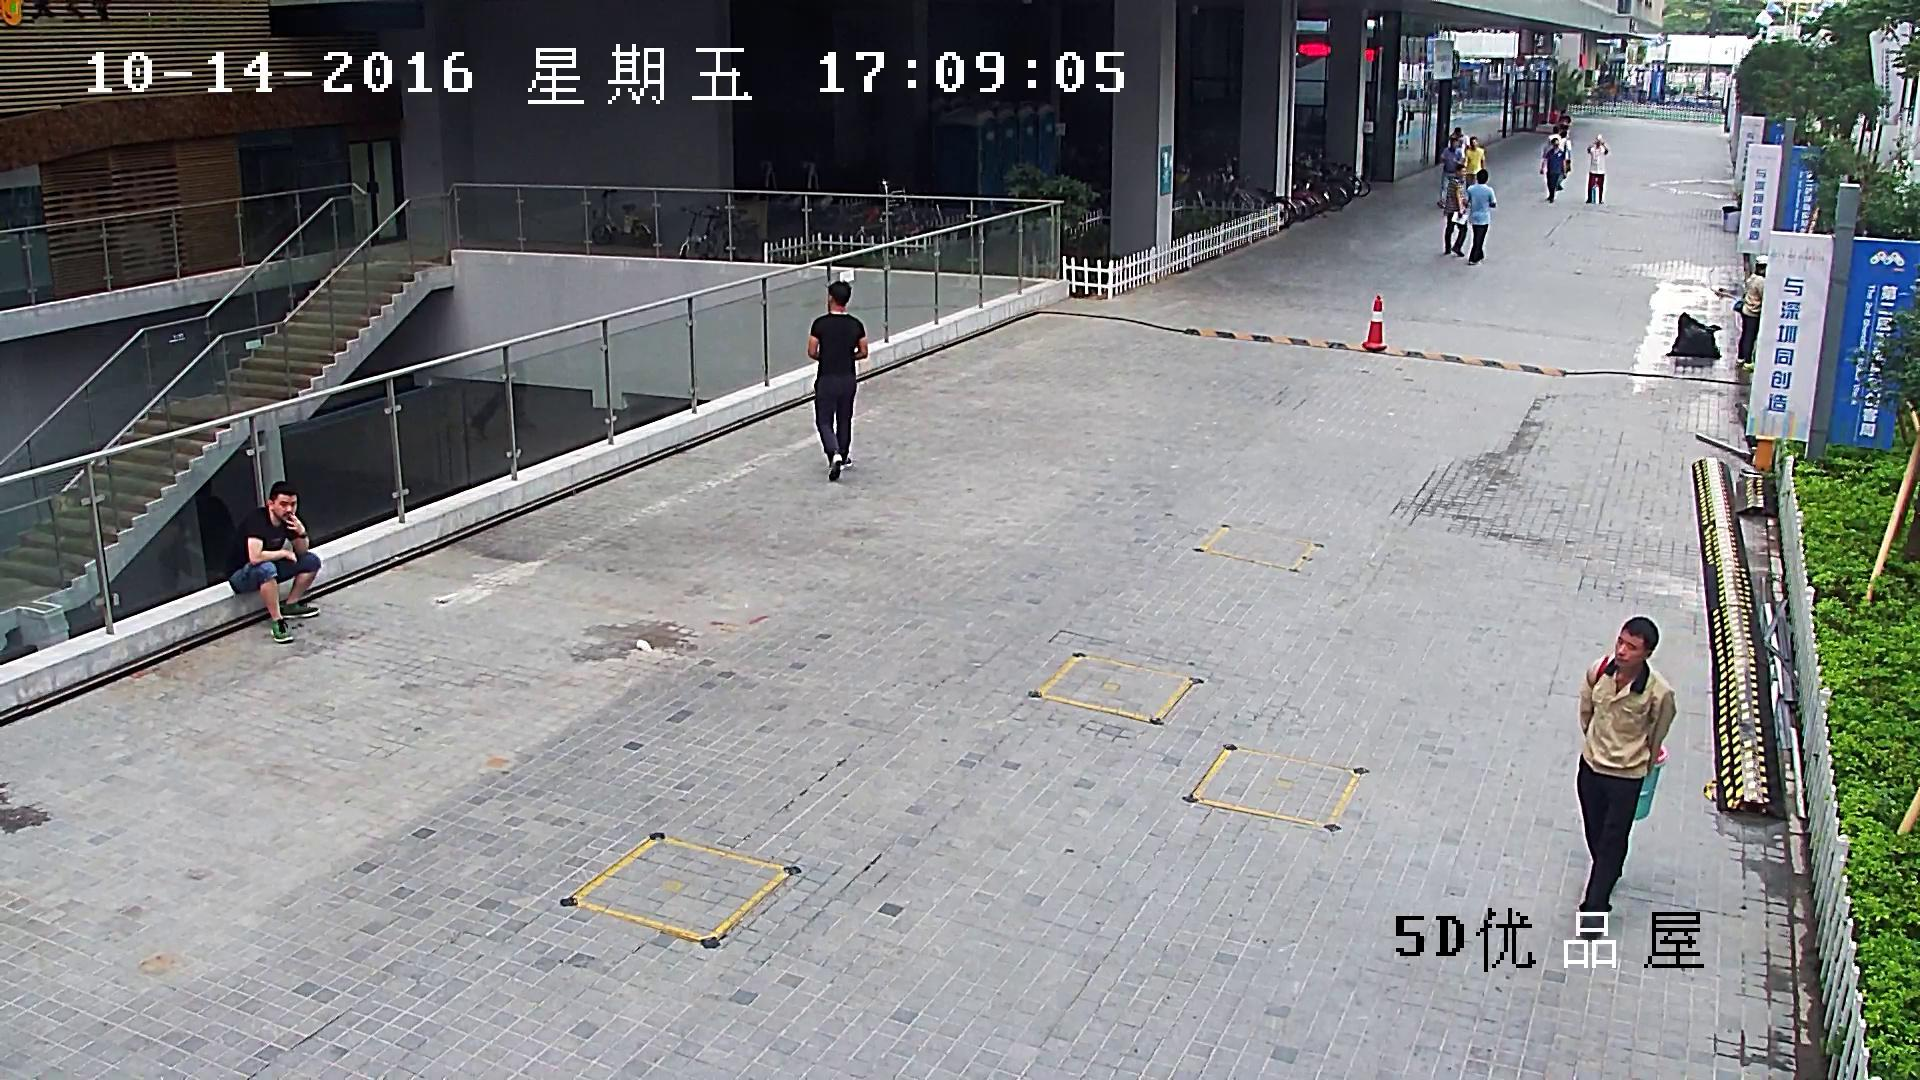person: (1577, 618, 1676, 938), (228, 482, 321, 643), (807, 281, 869, 483), (1732, 255, 1769, 371), (1464, 171, 1497, 267), (1443, 164, 1466, 255), (1585, 135, 1609, 208), (1539, 136, 1564, 202), (1543, 125, 1565, 191), (1464, 136, 1487, 184), (1441, 138, 1466, 180), (1555, 116, 1571, 174), (1452, 126, 1463, 151)
